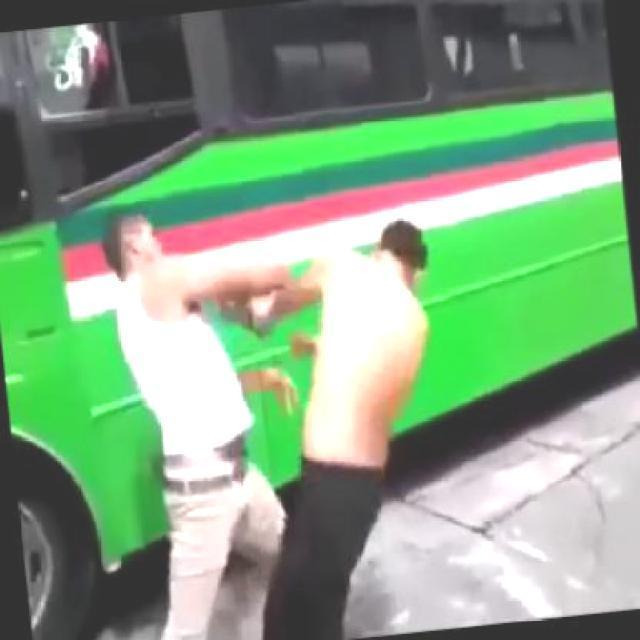fight: (86, 176, 465, 638)
